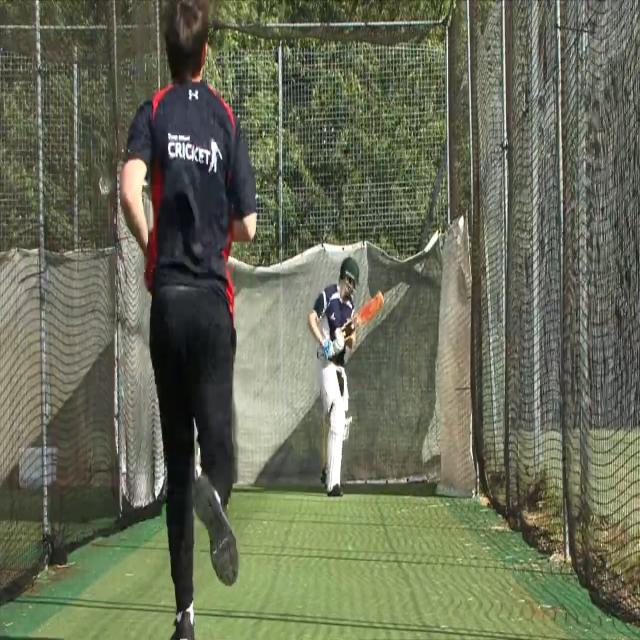batsman: (306, 254, 385, 499)
